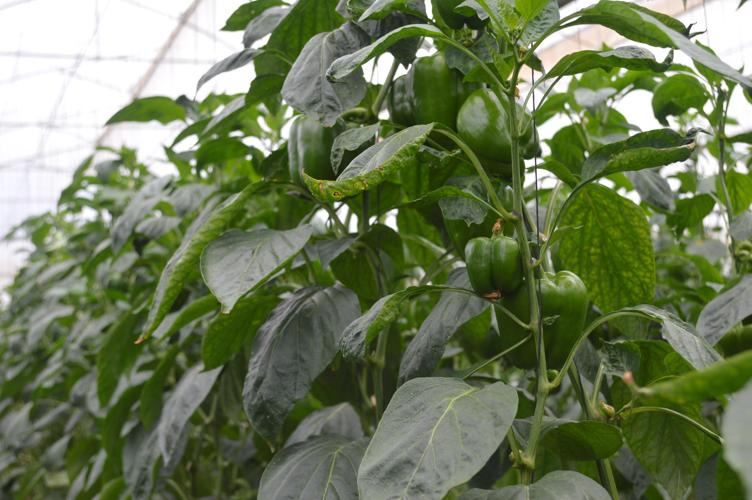BellPepper: (489, 266, 585, 369), (445, 85, 535, 170), (385, 53, 467, 135), (282, 114, 341, 191), (461, 238, 514, 294)
